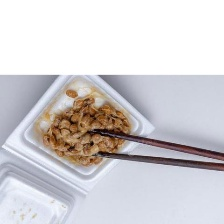foam_box: (0, 75, 159, 224)
